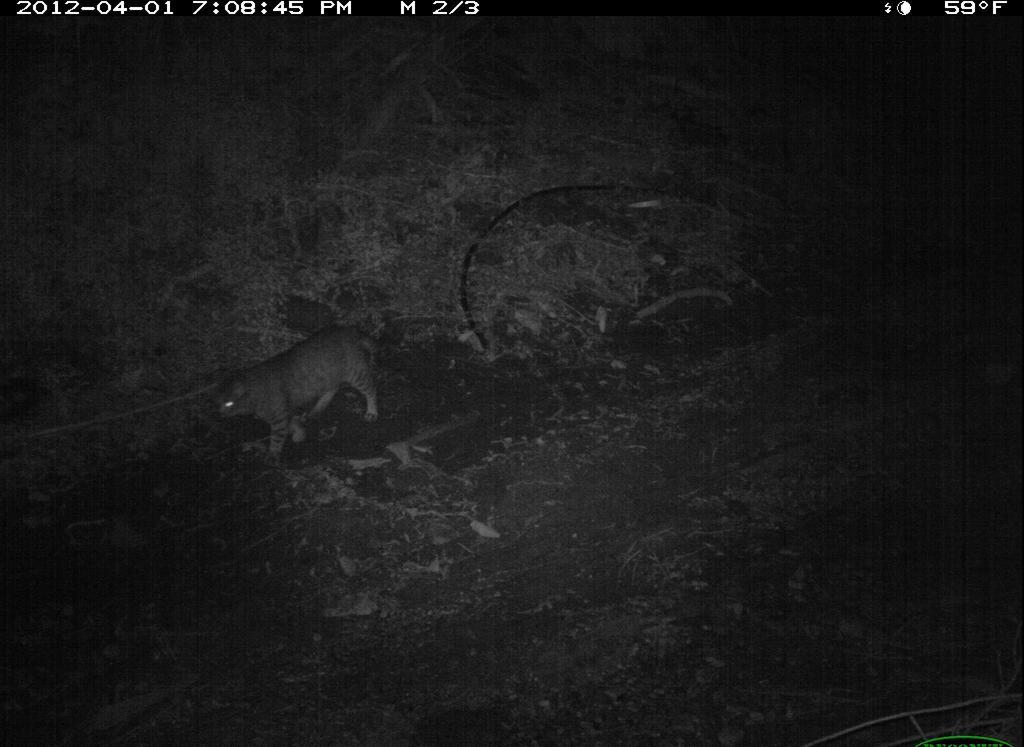cat: (203, 310, 402, 466)
